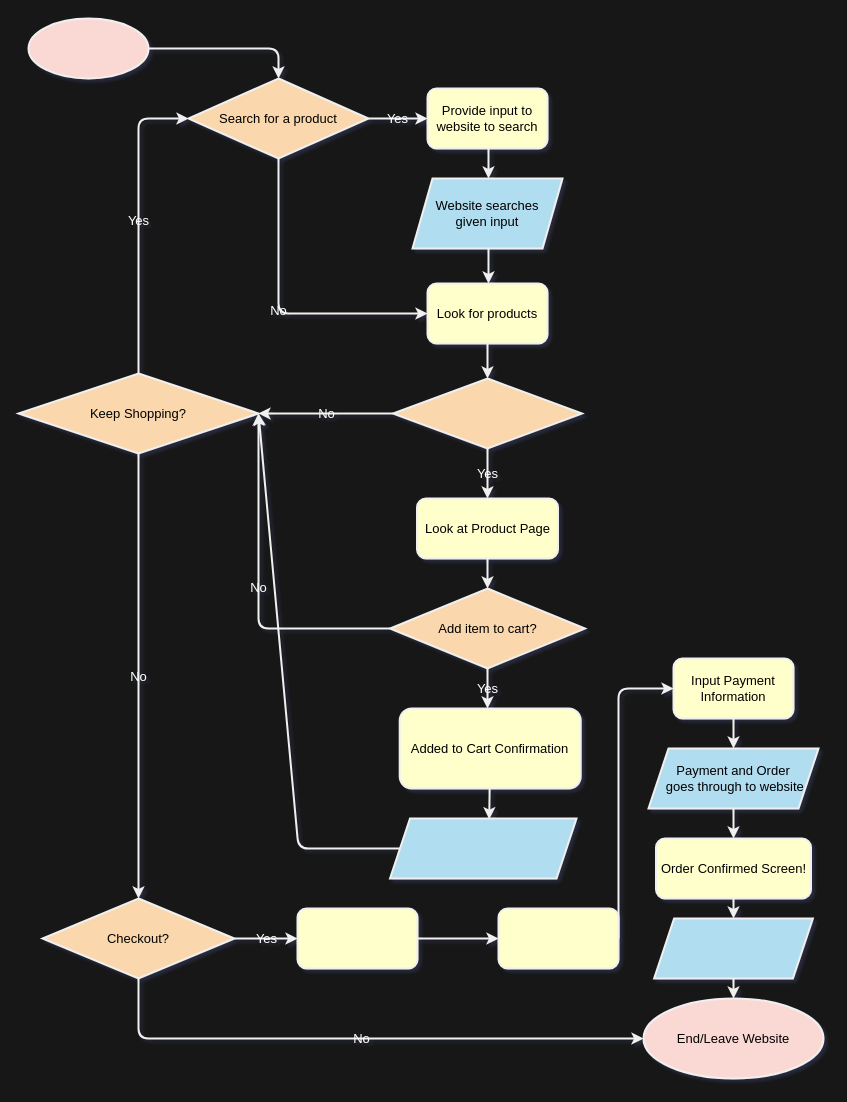
The diagram is 847 pixels wide and 1102 high, and some of its shapes have lost their labels. The shapes that lost their labels are listed below. From the top down, each one's centre as x and y in pixels, then its label:
At (88,48): "Start/Enter".
At (487,413): "Look at Specific Product?".
At (482,848): "Product Added to Cart".
At (357,938): "View Cart".
At (558,938): "View Payment".
At (733,948): "Email confirmation sent to customer".
